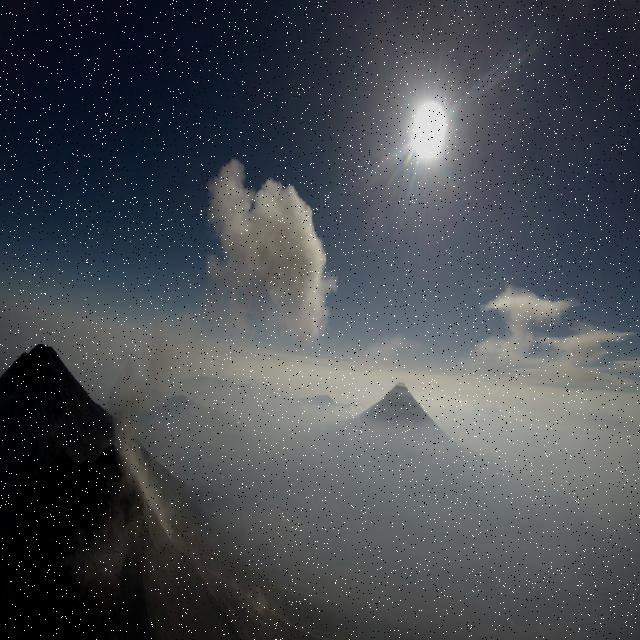Plume: (199, 152, 340, 342)
Summit: (82, 443, 156, 496)
